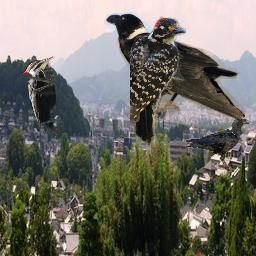Crow: (104, 10, 245, 121), (185, 118, 251, 172)
Woodpecker: (130, 16, 186, 147), (22, 56, 57, 145)
